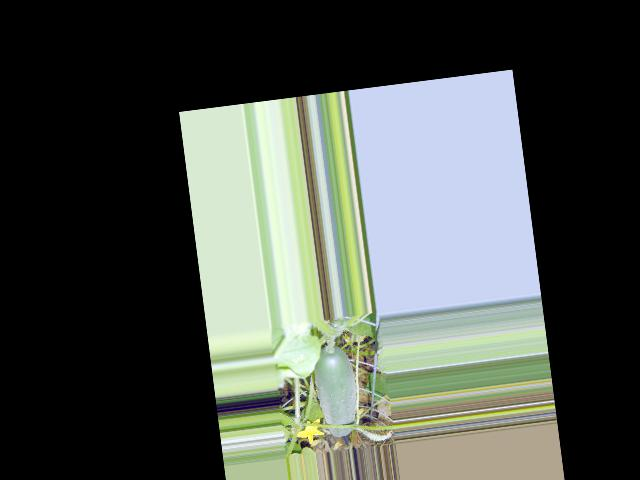cucumber: (311, 343, 362, 438)
